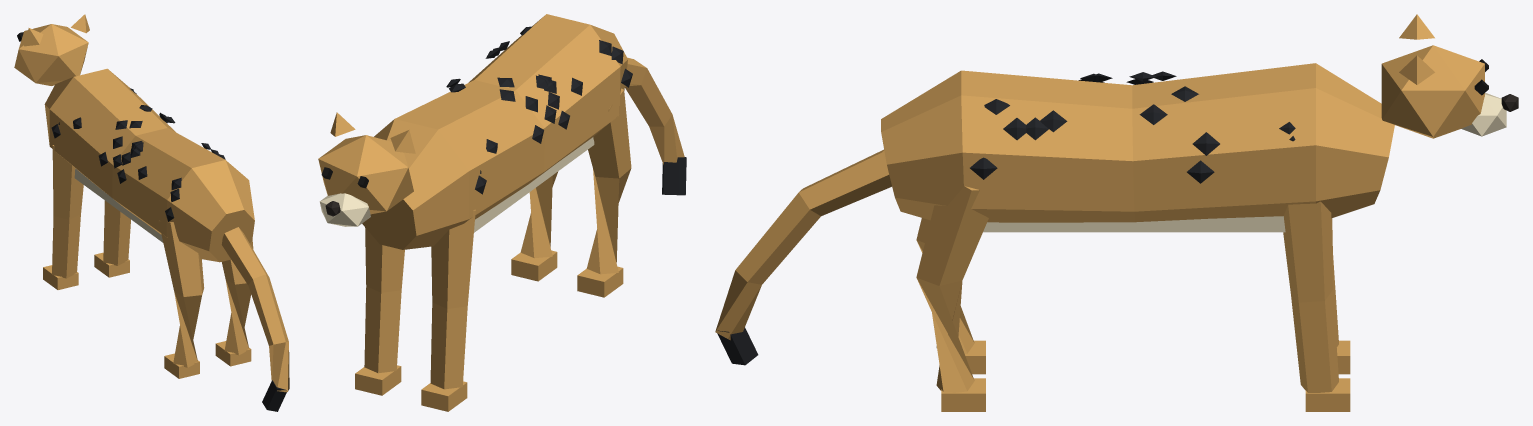
File: onca_pintada.glb
3 renders of one model, left to right at view 1: azimuth 30°, elevation 25°; view 2: azimuth 150°, elevation 25°; view 3: azimuth 270°, elevation 25°, orthographic. The views are drawn at different scales.
Parts seen in each view (by area): view 1: corpo; view 2: corpo; view 3: corpo.
Part boxes in pixels (x1,y1,x2,y2): corpo: [14, 14, 289, 411]; corpo: [318, 14, 686, 411]; corpo: [715, 14, 1518, 411].
Bounding box in the file's own units: 0.1946 × 0.4818 × 1.
